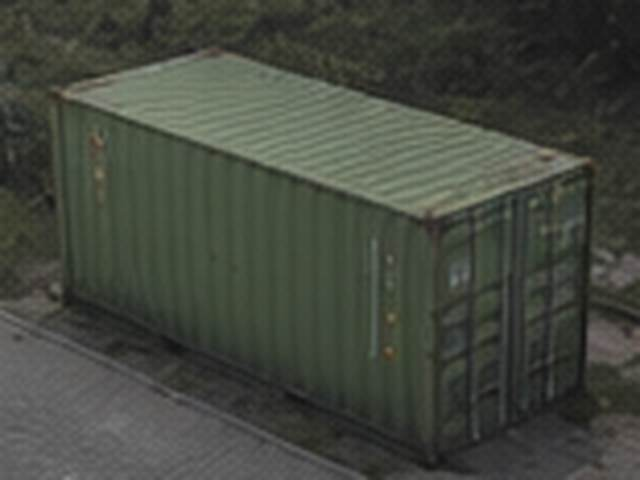male: (52, 50, 591, 457)
